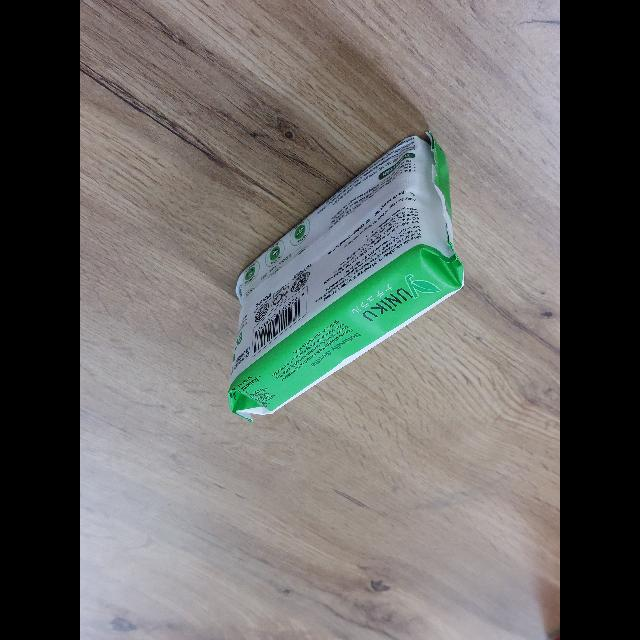khan_giay: (227, 132, 465, 421)
